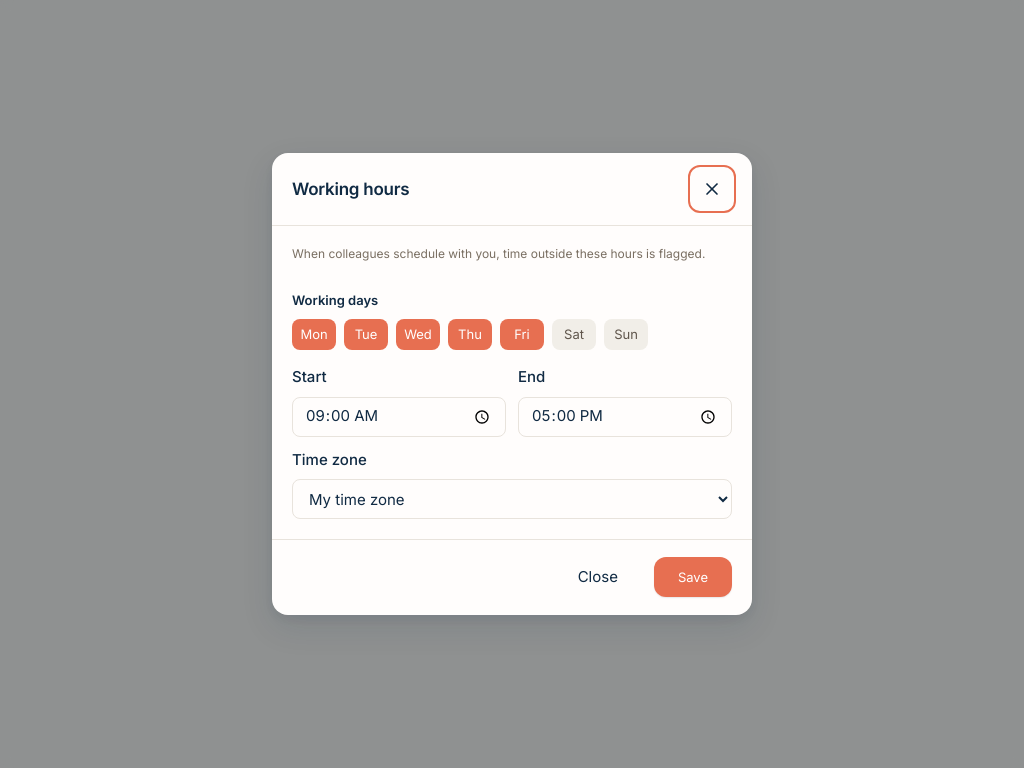
Scenario: a backwards window is refused in place, without a request
The image size is (1024, 768).
Replace the text in the time field labelled "End" with "08:00" at x=625, y=417, box left=518, top=397, right=732, bottom=437
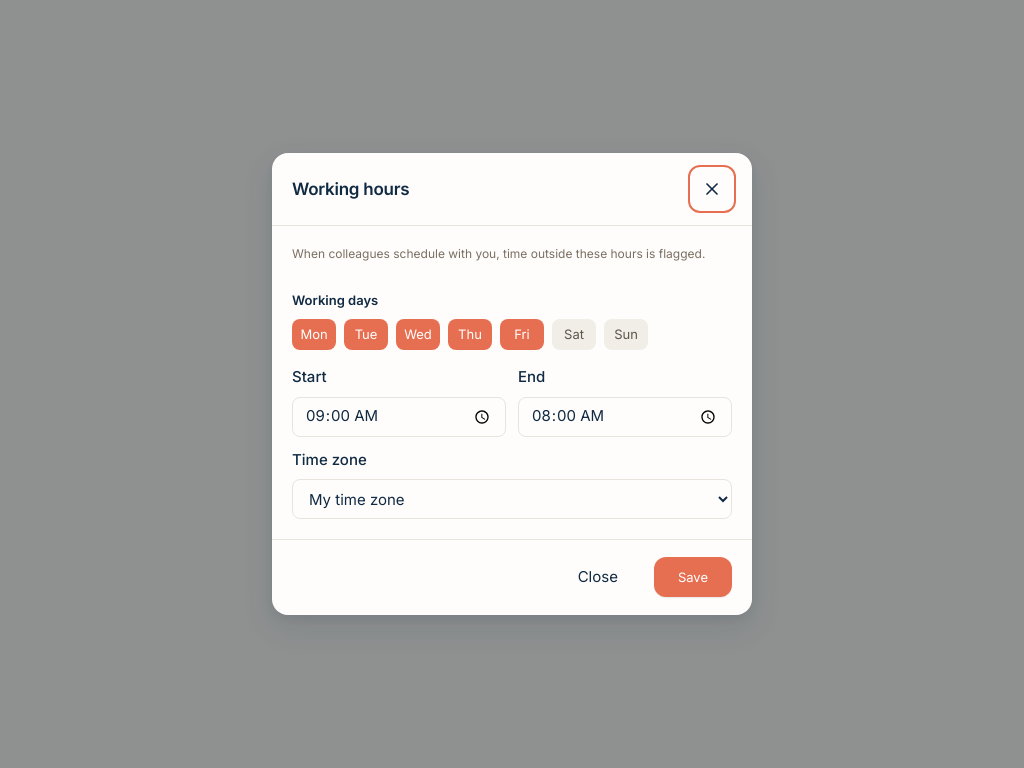
Click the button "Save" at x=693, y=577, box left=654, top=557, right=732, bottom=597
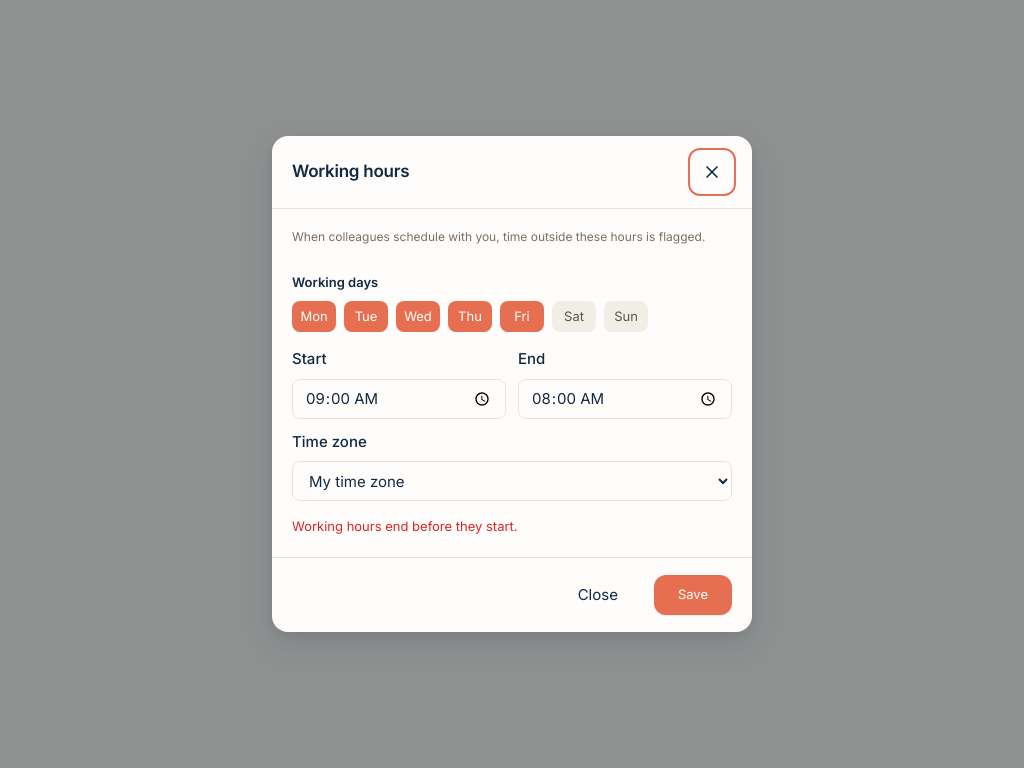
Result: the text "Working hours end before they start." is shown at left=292, top=518, right=518, bottom=534
